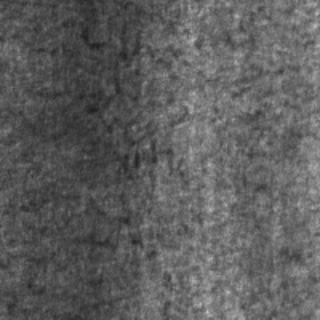crazing: (72, 13, 184, 195)
